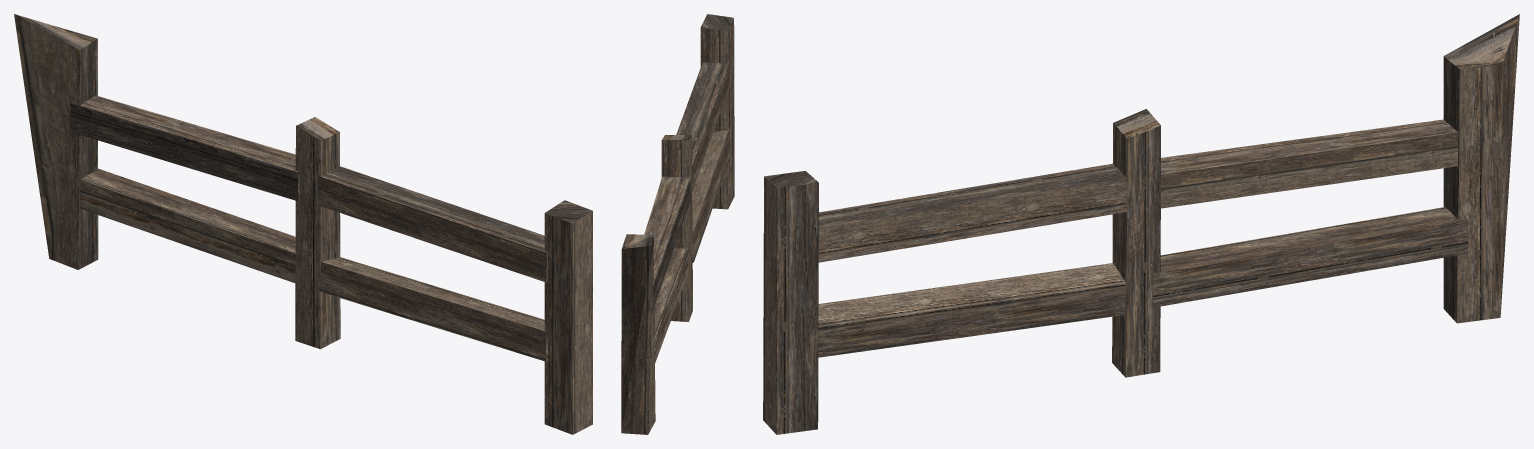
Rendered from fence3.obj.
3 renders of one model, left to right at view 1: azimuth 30°, elevation 25°; view 2: azimuth 150°, elevation 25°; view 3: azimuth 270°, elevation 25°, orthographic. The views are drawn at different scales.
Parts seen in each view (by area): view 1: fence; view 2: fence; view 3: fence.
Part boxes in pixels (bbox=[...]): fence: bbox=[14, 14, 592, 434]; fence: bbox=[621, 14, 734, 434]; fence: bbox=[763, 14, 1519, 434].
Size of the model in its own units: 1.85 by 1.64 by 4.06.
1 material, 1 textured.
